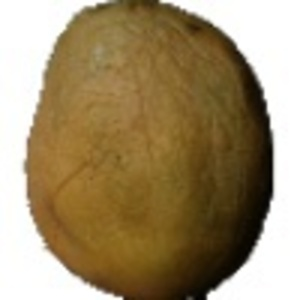mamão: (19, 3, 281, 296)
